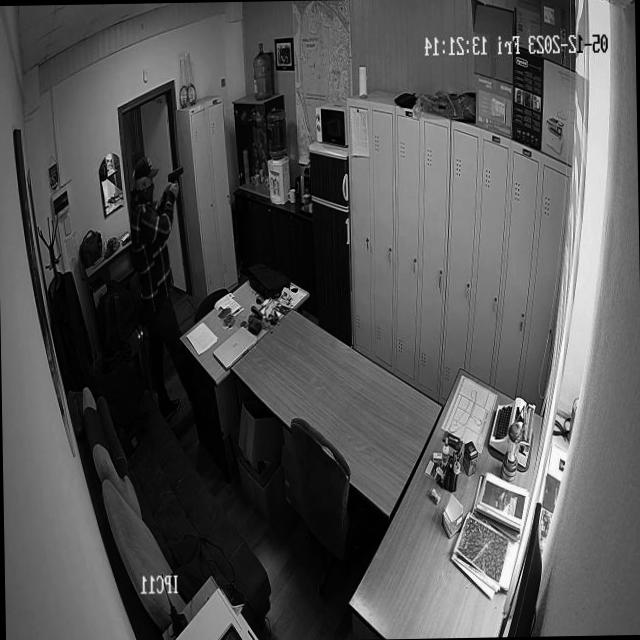gun: (166, 166, 186, 183)
person with a gun: (126, 155, 192, 378)
